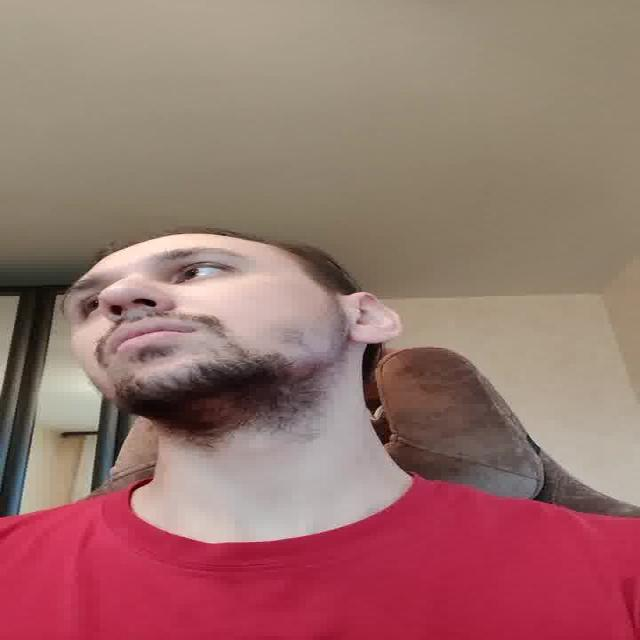earlobe: (349, 331, 391, 344)
eye: (172, 265, 230, 281), (78, 294, 105, 314)
nose: (104, 310, 173, 322)
wholeear: (344, 290, 400, 344)
